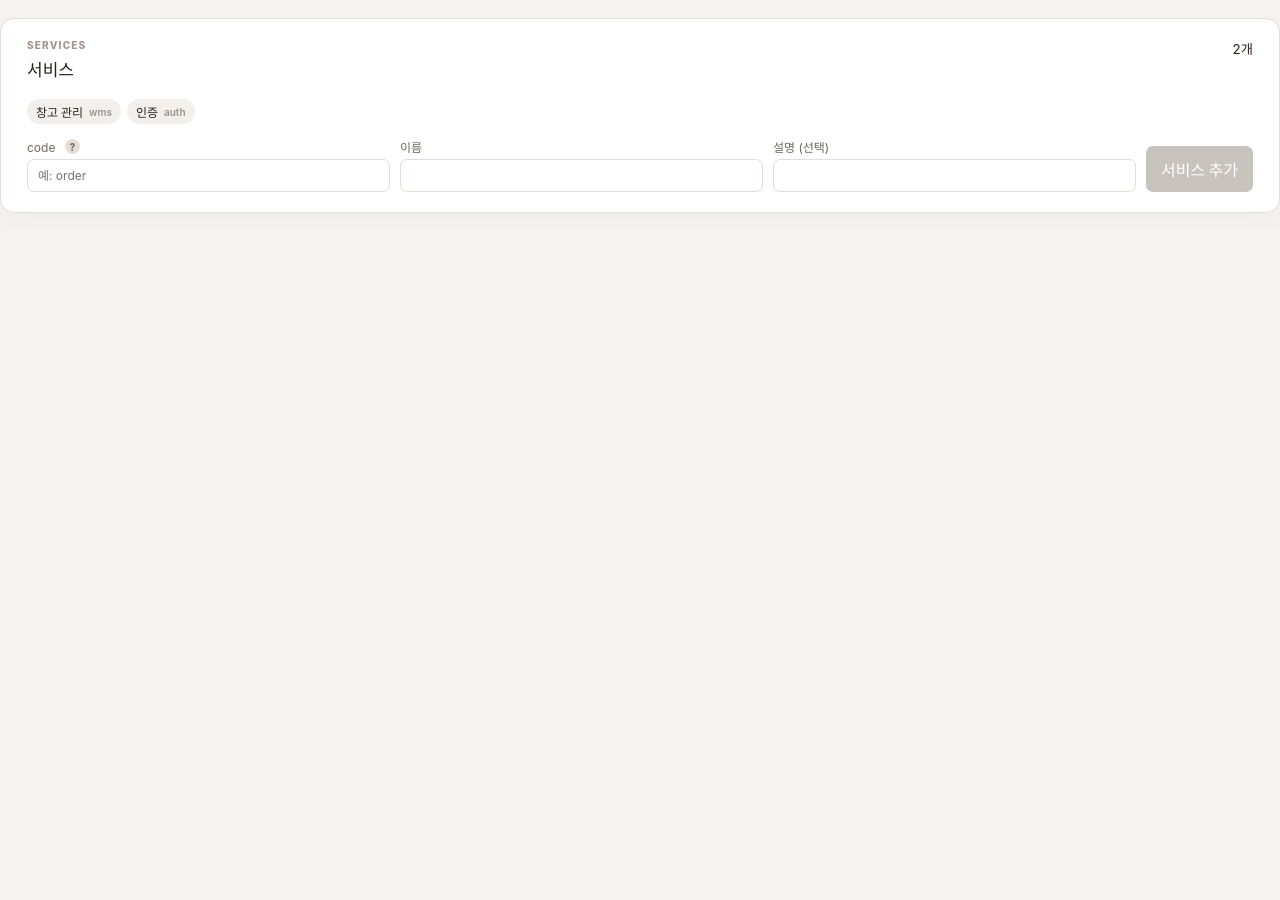
Test case: AudiencePanel › 경고 모달에서 취소하면 추가하지 않고 입력을 그대로 둔다
Type "order" into the field labelled "code" at (208, 176), box [27,159,390,192]
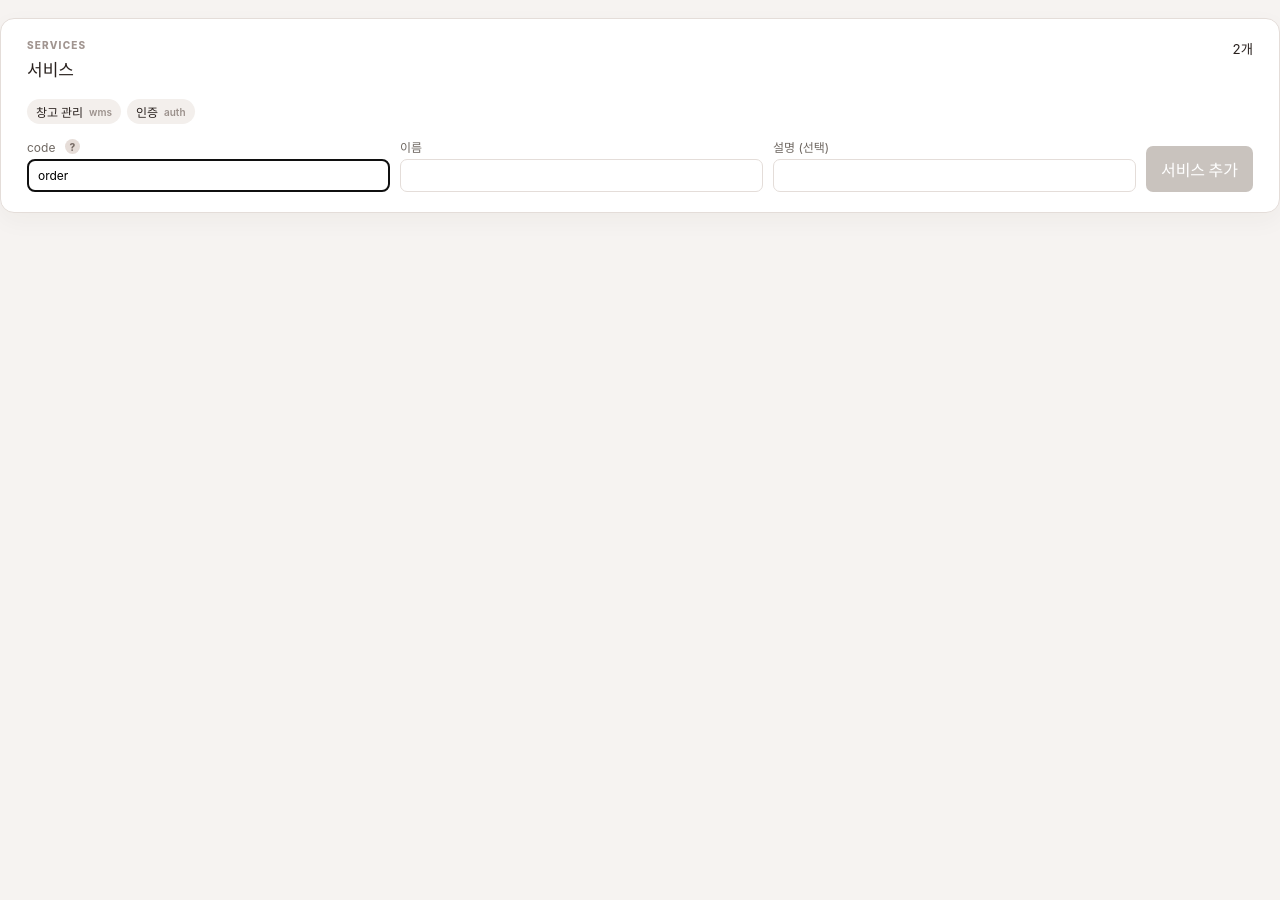
Type "주문" into the field labelled "이름" at (582, 176), box [400,159,763,192]
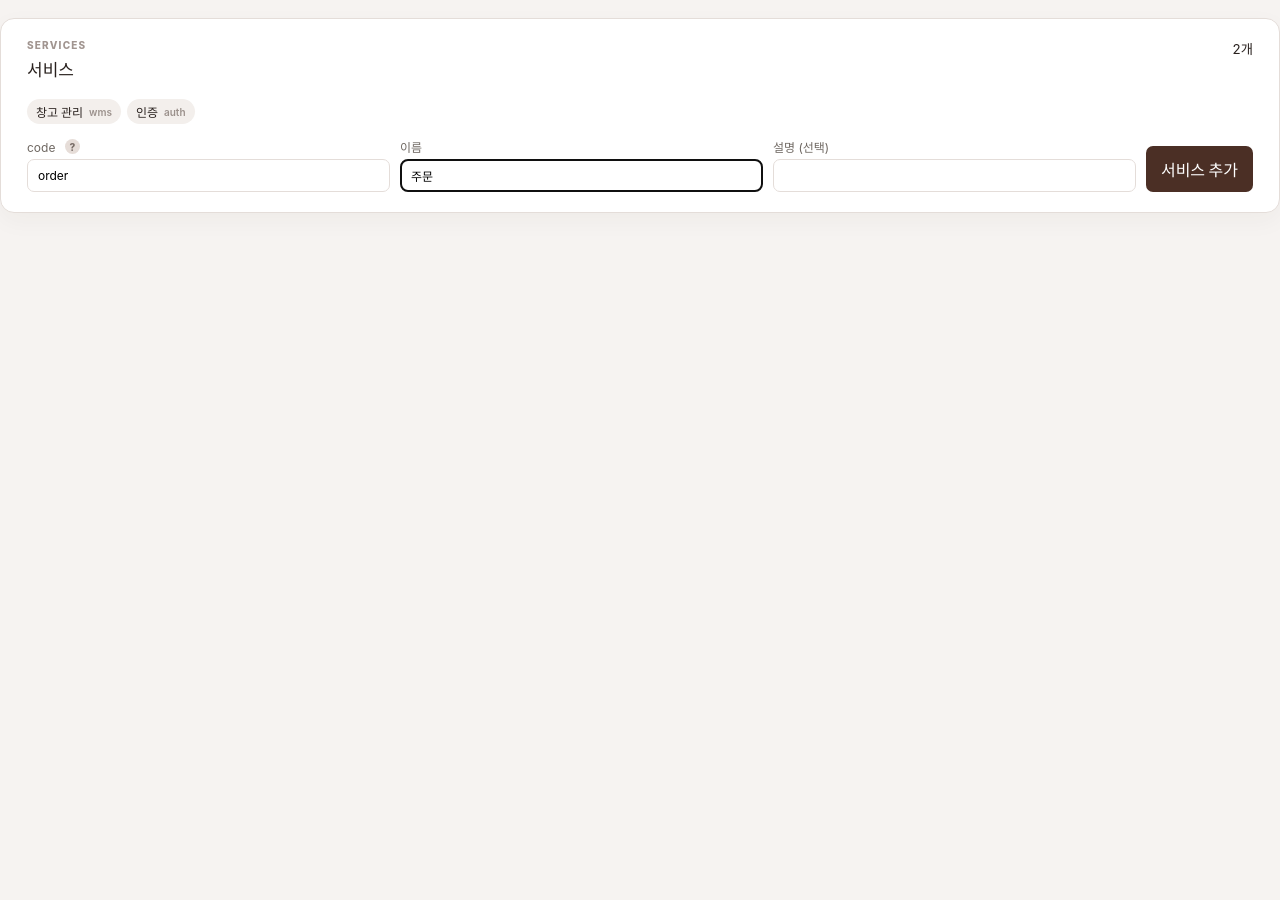
Click the button "서비스 추가" at (1199, 169), box [1146,146,1253,192]
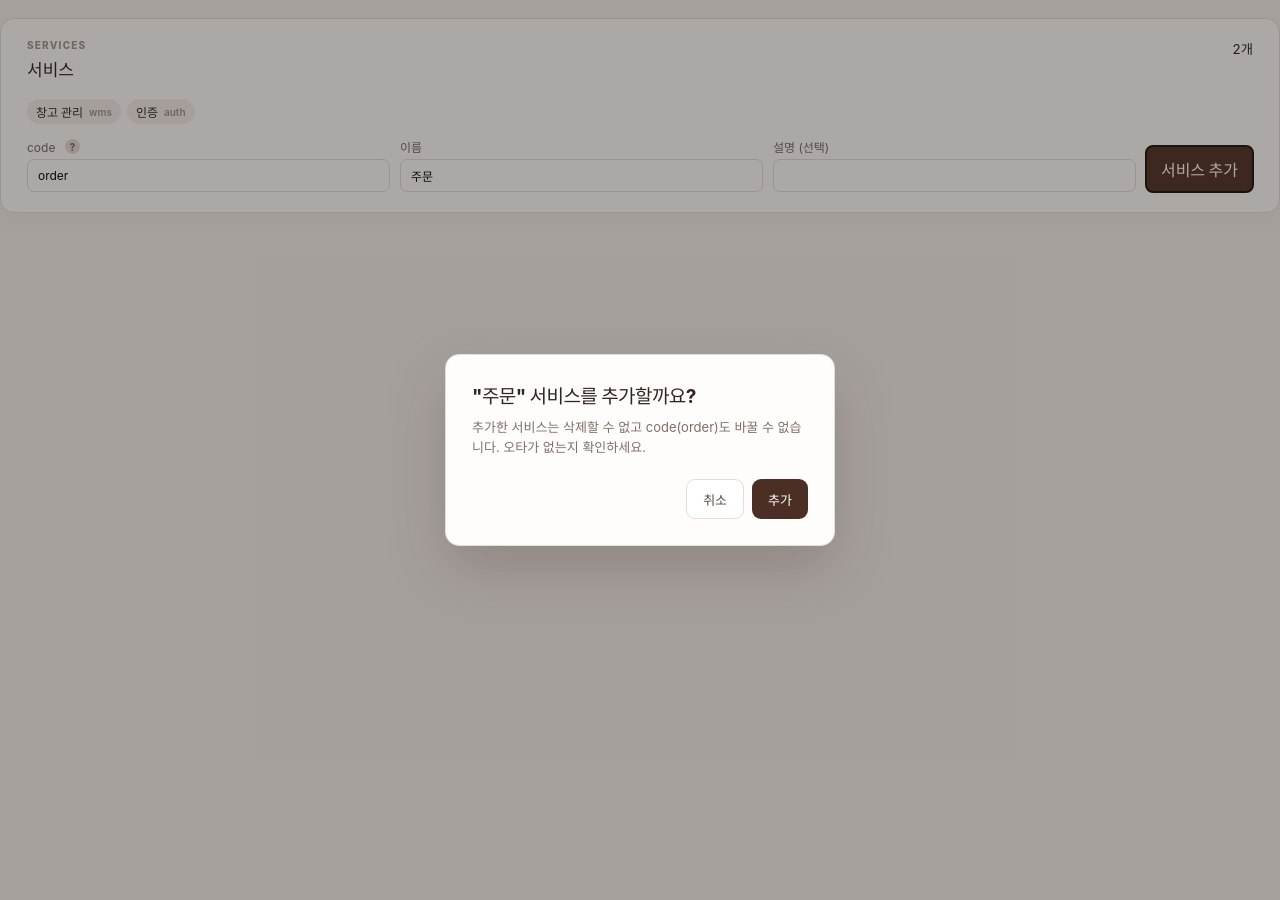
Click the button "취소" at (715, 499), box [686,479,744,519]
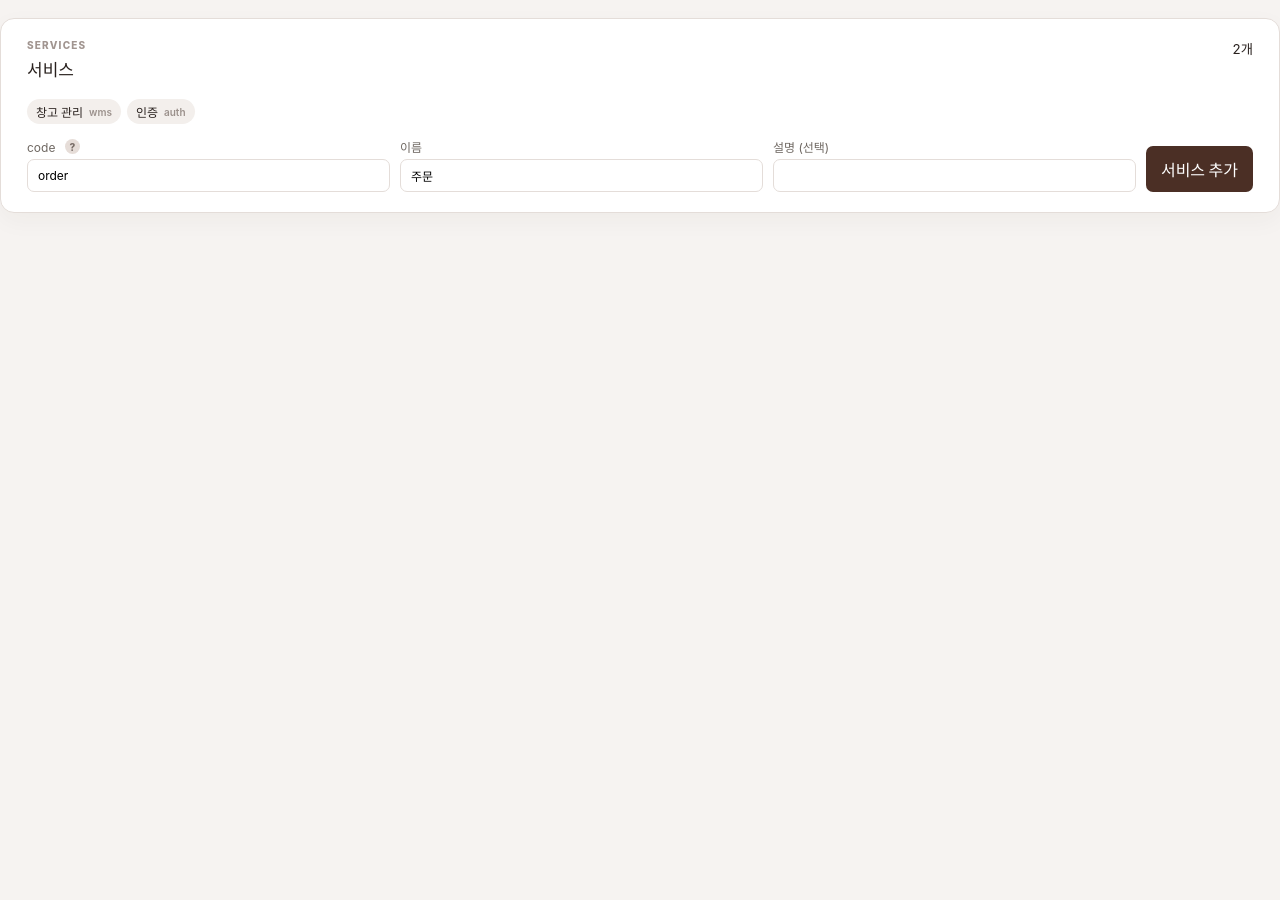
Check: the dialog is gone
